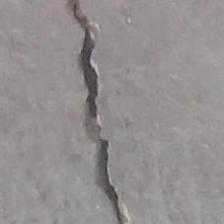Crack: (32, 1, 214, 224)
